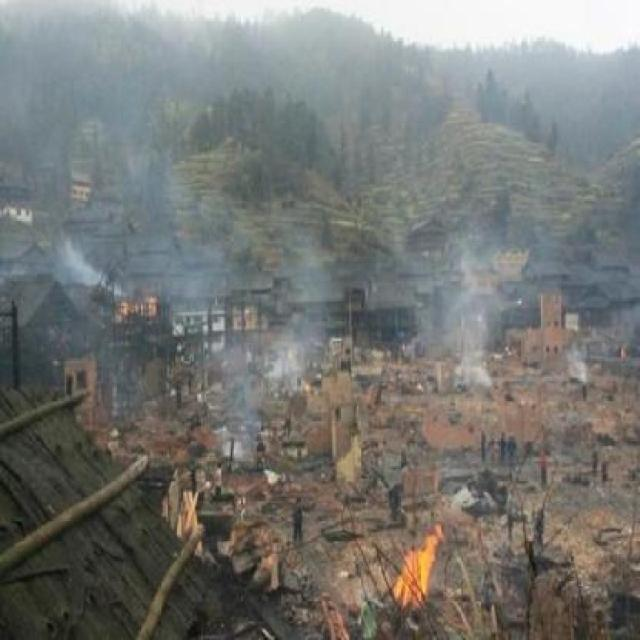Fire: (391, 524, 448, 606), (622, 343, 630, 364)
Smoke: (448, 286, 496, 394), (52, 233, 111, 290), (268, 329, 314, 396), (224, 418, 254, 465), (576, 356, 594, 386)
